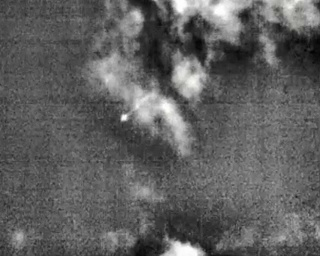AIRPLANE: (124, 117, 137, 132)
